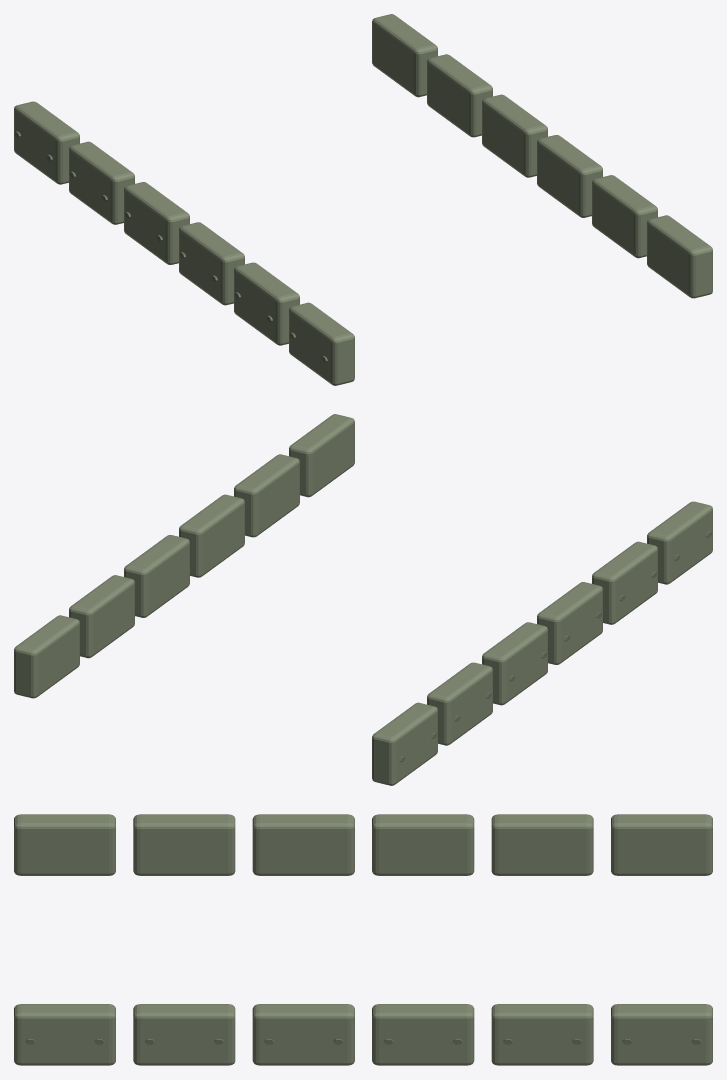
File: armor_1.glb
The picture shows the model from 3 angles, top to bottom: view 1: azimuth 30°, elevation 25°; view 2: azimuth 150°, elevation 25°; view 3: azimuth 270°, elevation 25°; orthographic projection. The views are drawn at different scales.
Visible parts, largest first — view 1: armor_1.001; view 2: armor_1.001; view 3: armor_1.001.
Part boxes in pixels (x1=…): armor_1.001: x1=14, y1=14, x2=712, y2=385; armor_1.001: x1=14, y1=414, x2=712, y2=785; armor_1.001: x1=14, y1=814, x2=712, y2=1065.
Bounding box in the file's own units: 4.32 × 0.516 × 6.23.
